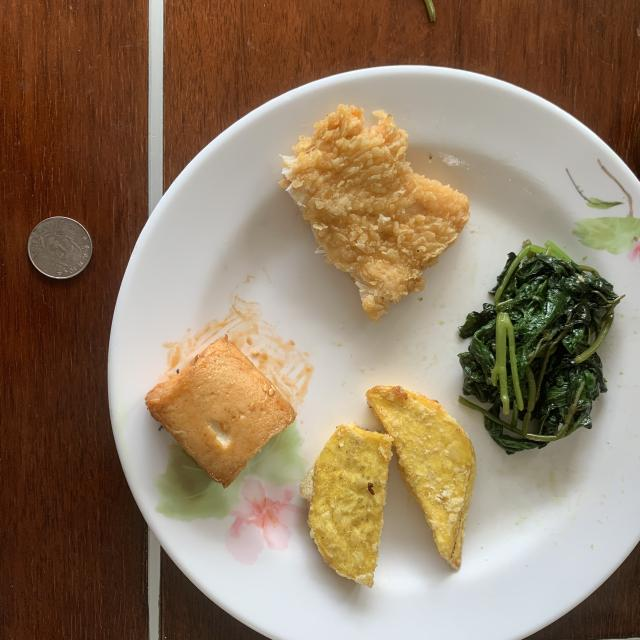coin: (28, 216, 92, 279)
creamy tofu: (145, 336, 295, 488)
fried chicken cutlet: (280, 104, 470, 321)
sweet potato leaves: (459, 241, 621, 454)
